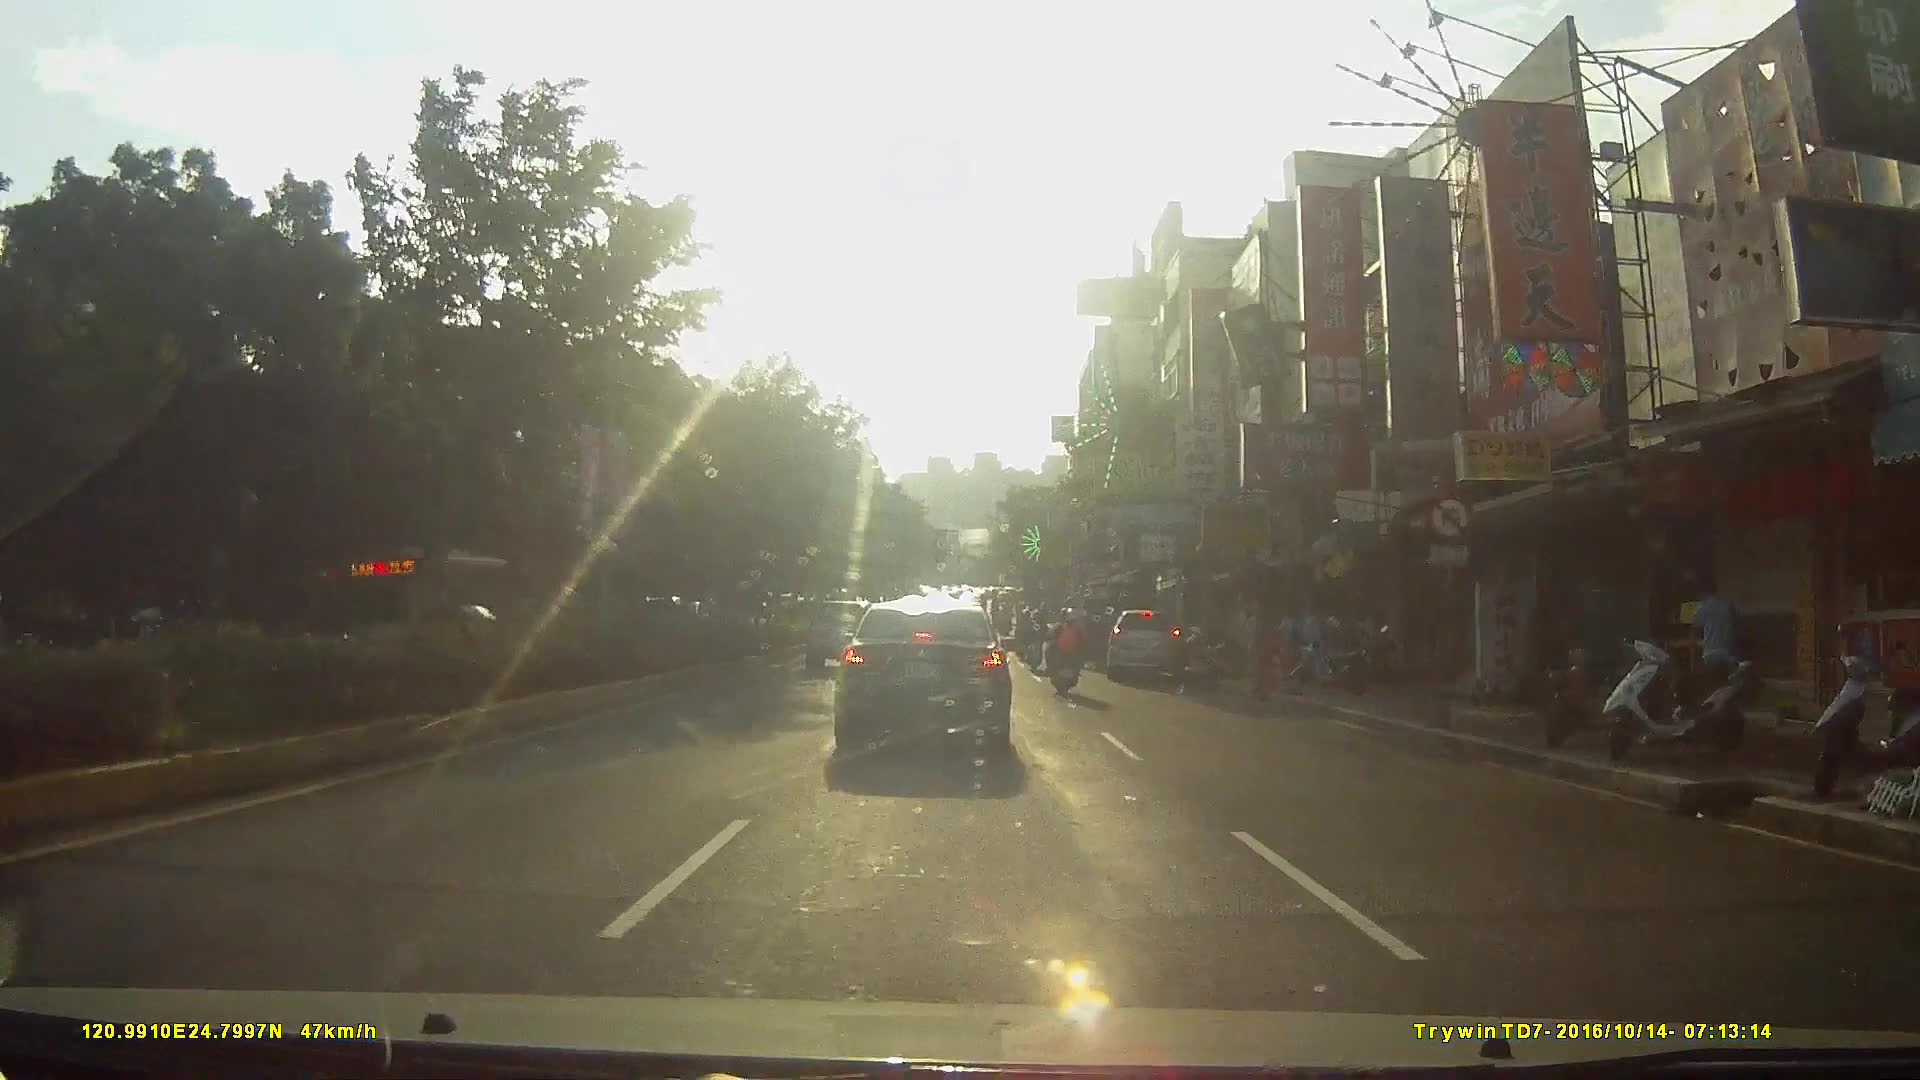pedestrian: (1683, 582, 1738, 721)
rider: (1050, 605, 1094, 702), (1018, 604, 1047, 671)
vehicle: (830, 588, 1032, 761), (329, 542, 537, 654), (1105, 602, 1194, 687)
